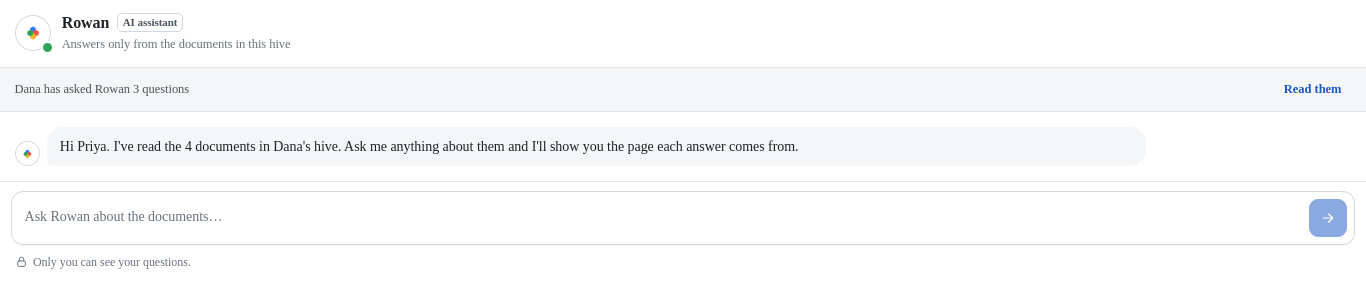
Scenario: AskChat › staff view of the client's questions › says so when the client's thread could not be loaded
The image size is (1366, 286).
Click the button "Read them": (1313,89) [1274, 75, 1352, 104]
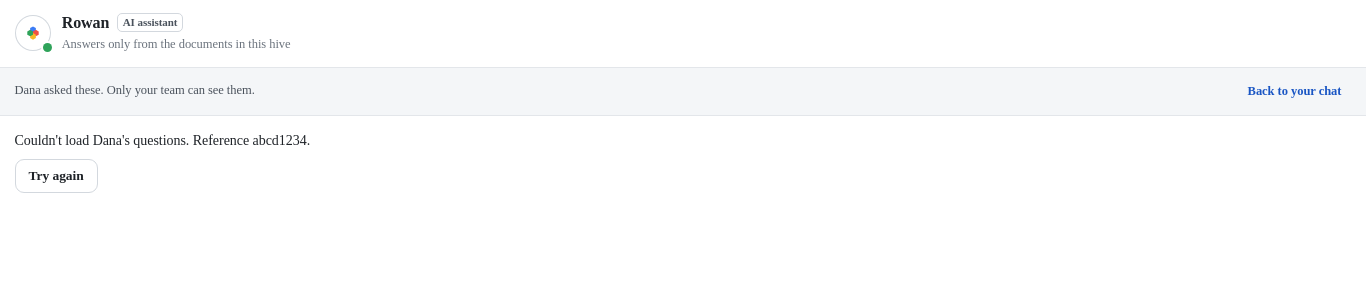
Expected: the text "Couldn't load Dana's questions. Reference abcd1234." is shown, [14, 133, 310, 148]
Expected: the text "abcd1234" is shown, [253, 133, 307, 148]
